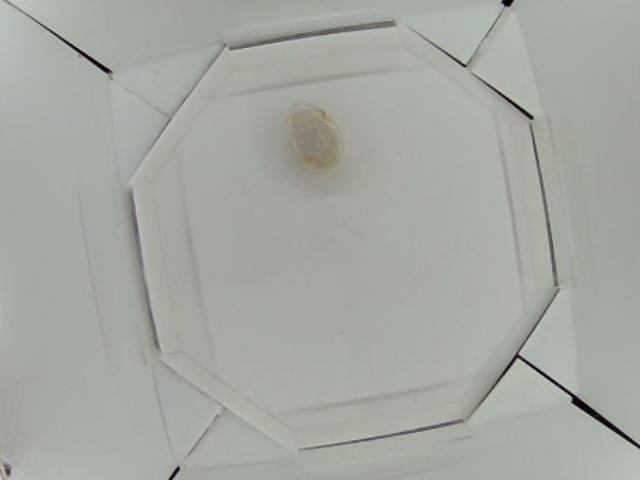Pebble: (287, 99, 340, 175)
